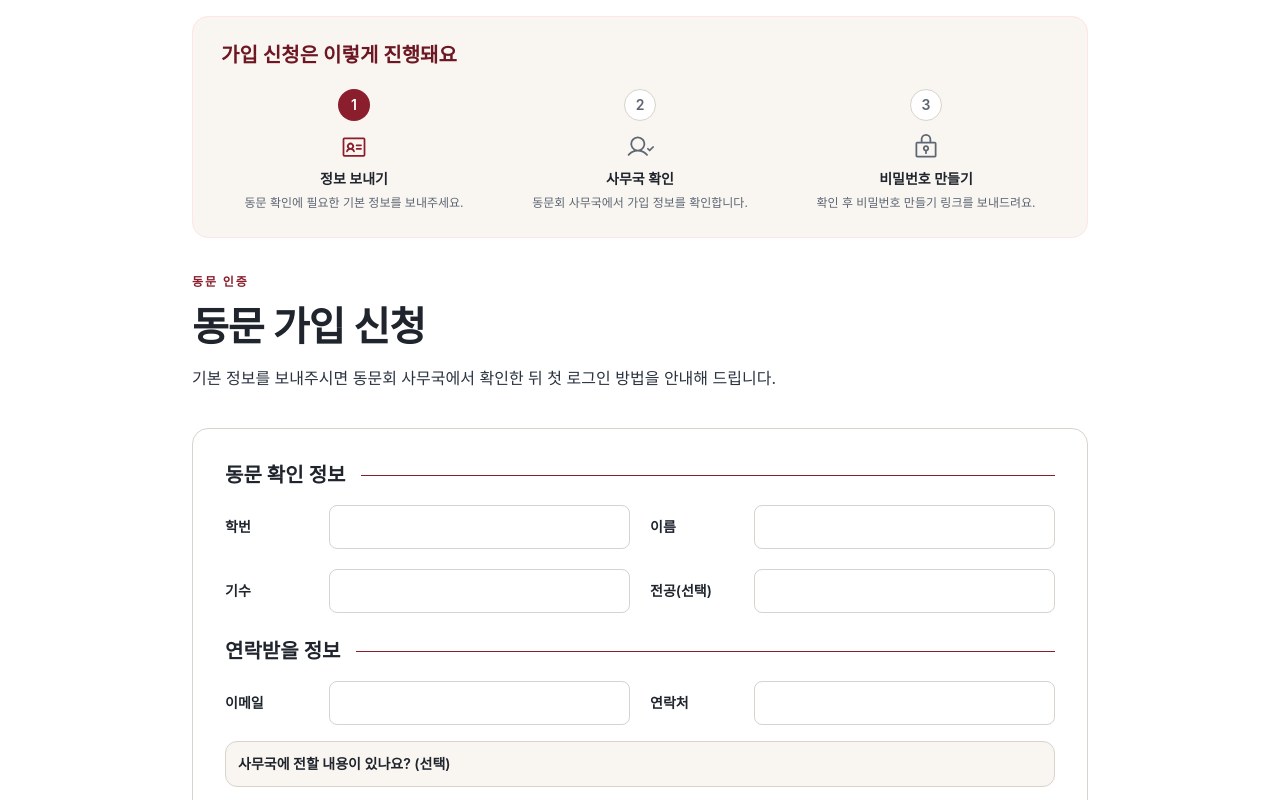
it: SignupPage › 숫자가 아닌 기수는 해당 입력에 연결된 오류와 포커스를 제공한다
In the field labelled "학번": (480, 527) [329,505,630,549], type "20260001"
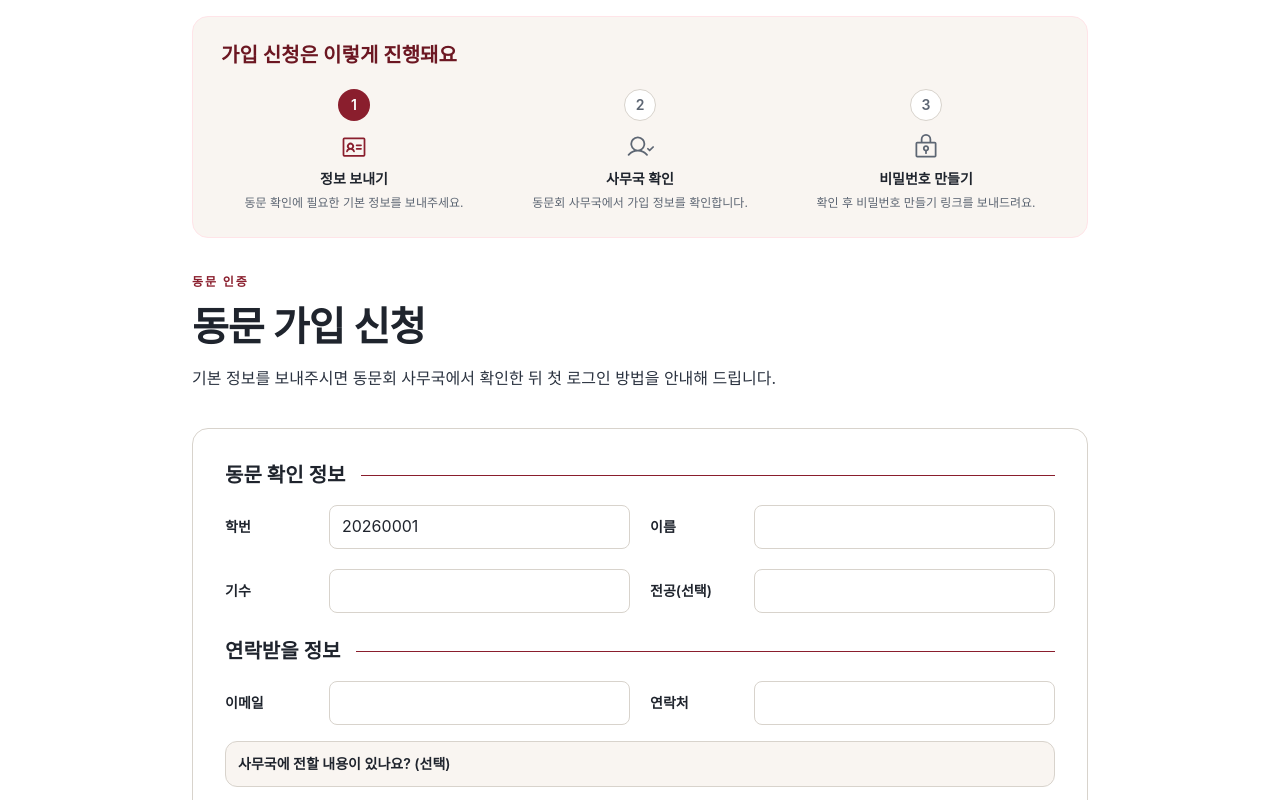
In the field labelled "이름": (904, 527) [754,505,1055,549], type "홍길동"
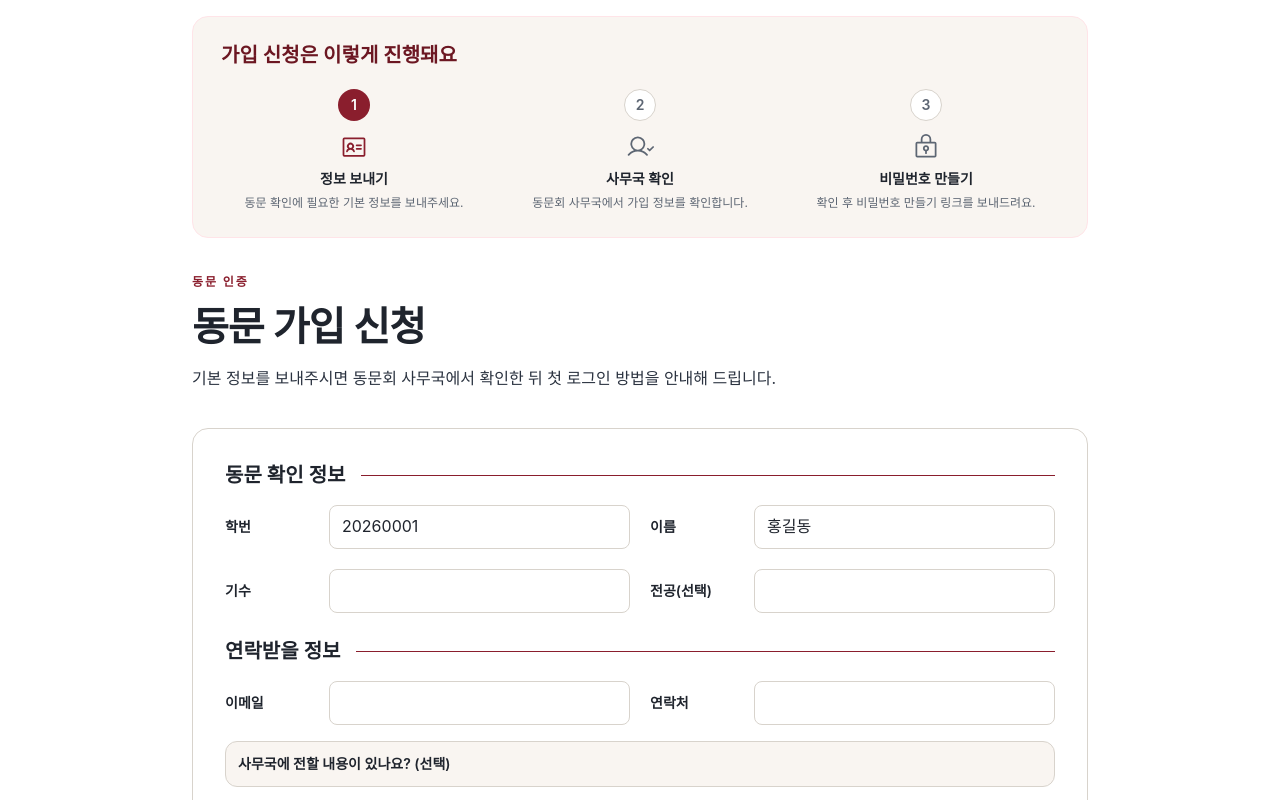
In the field labelled "이메일": (480, 703) [329,681,630,725], type "hong@example.com"
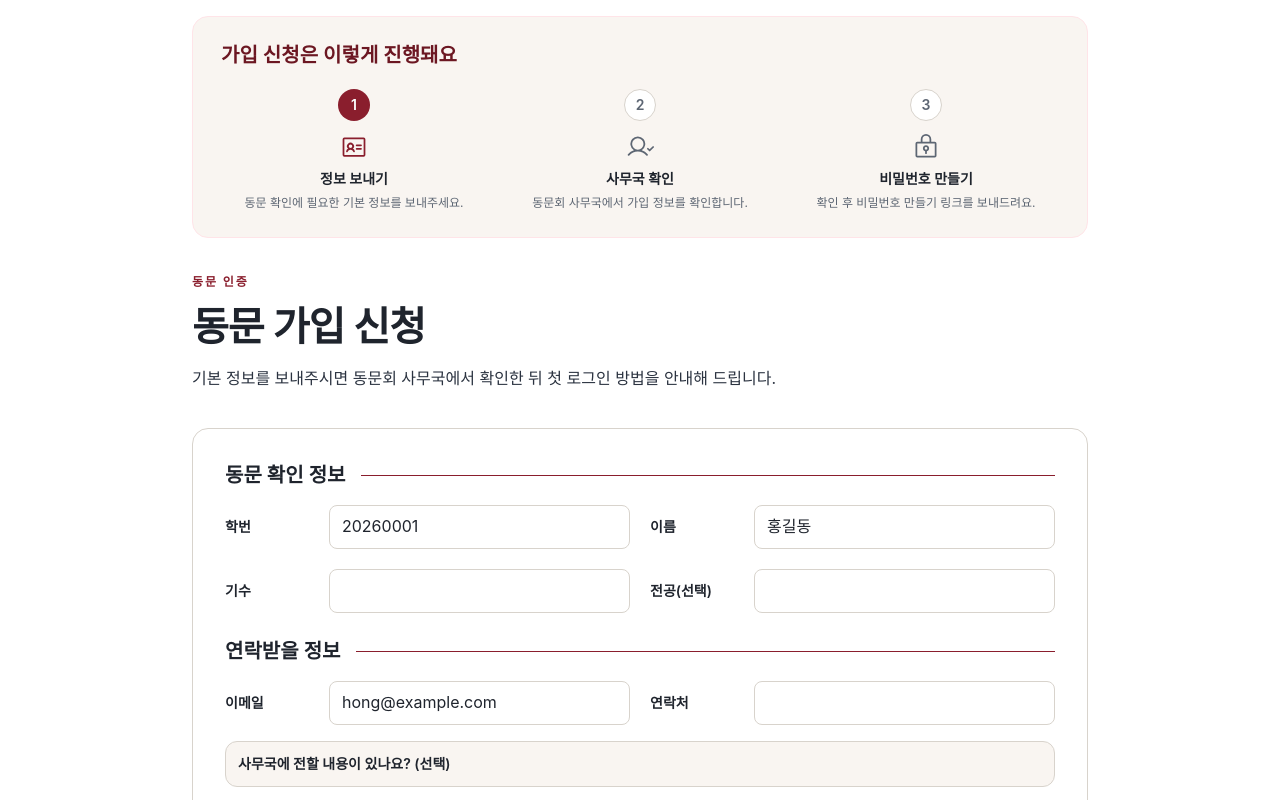
In the field labelled "기수": (480, 591) [329,569,630,613], type "58abc"
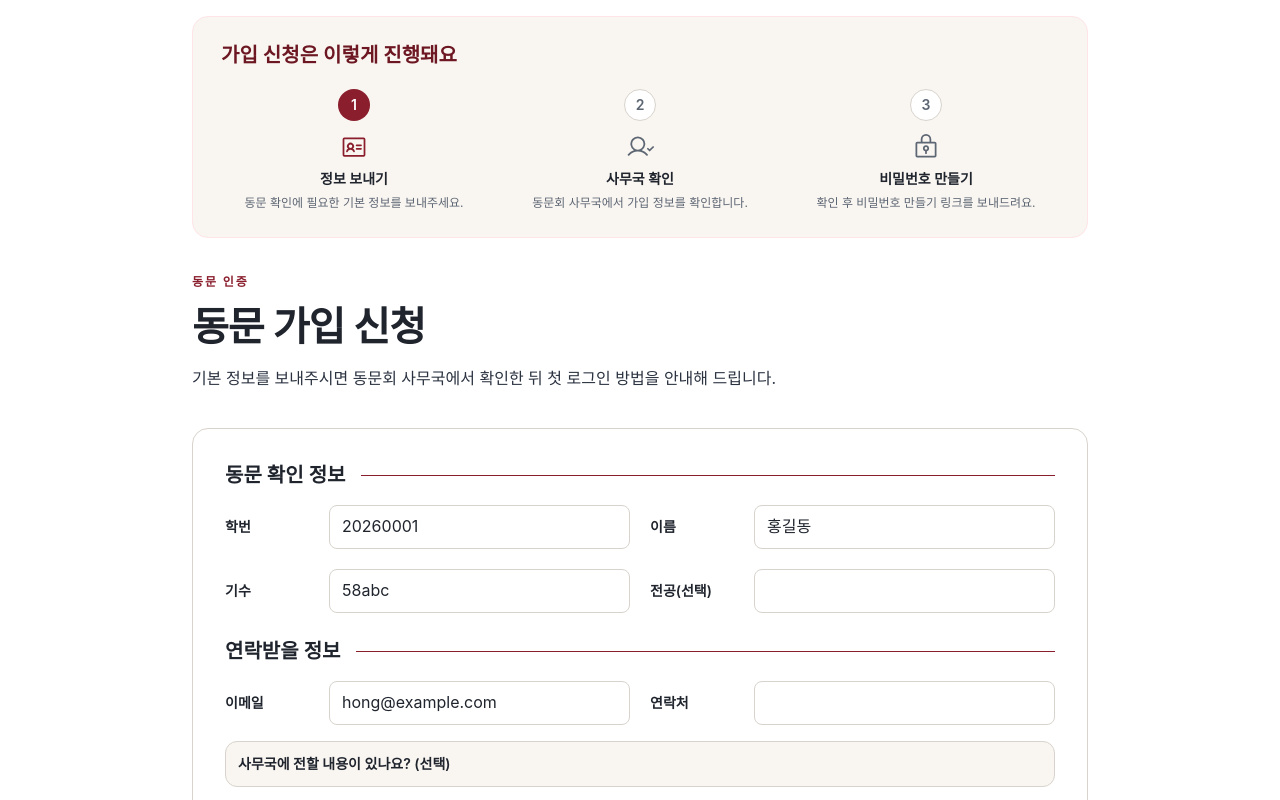
In the field labelled "연락처": (904, 703) [754,681,1055,725], type "01012345678"
(page scrolled)
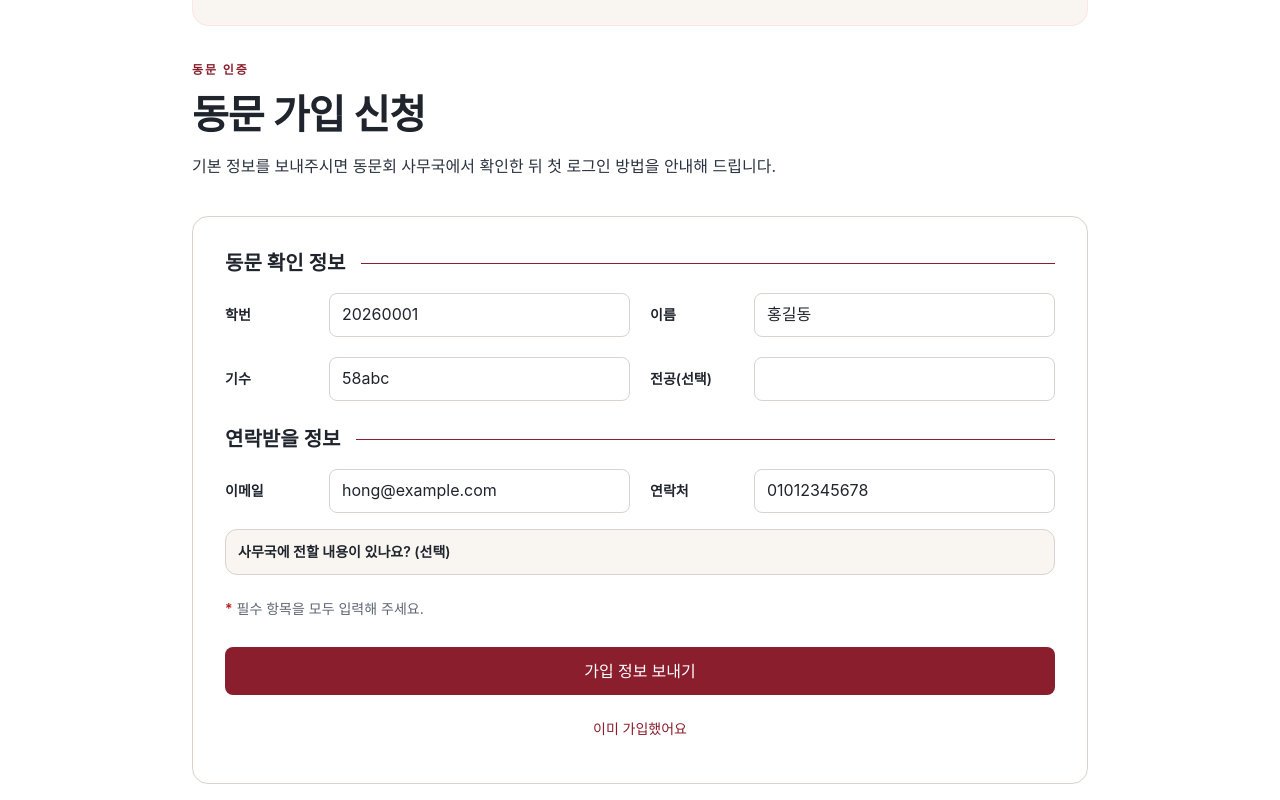
Click the button "가입 정보 보내기": (640, 671) [225,647,1055,695]
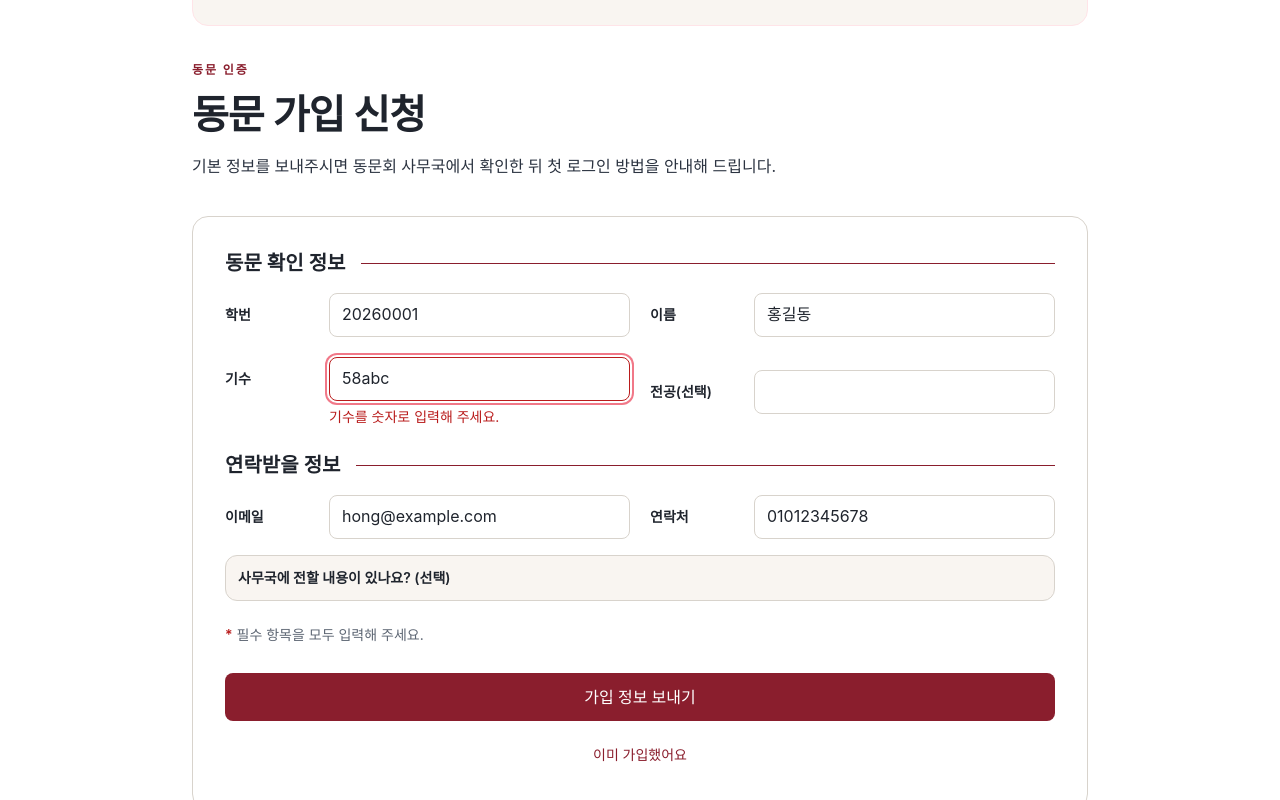
Check: the text "기수를 숫자로 입력해 주세요." is shown, box [329,408,499,425]
